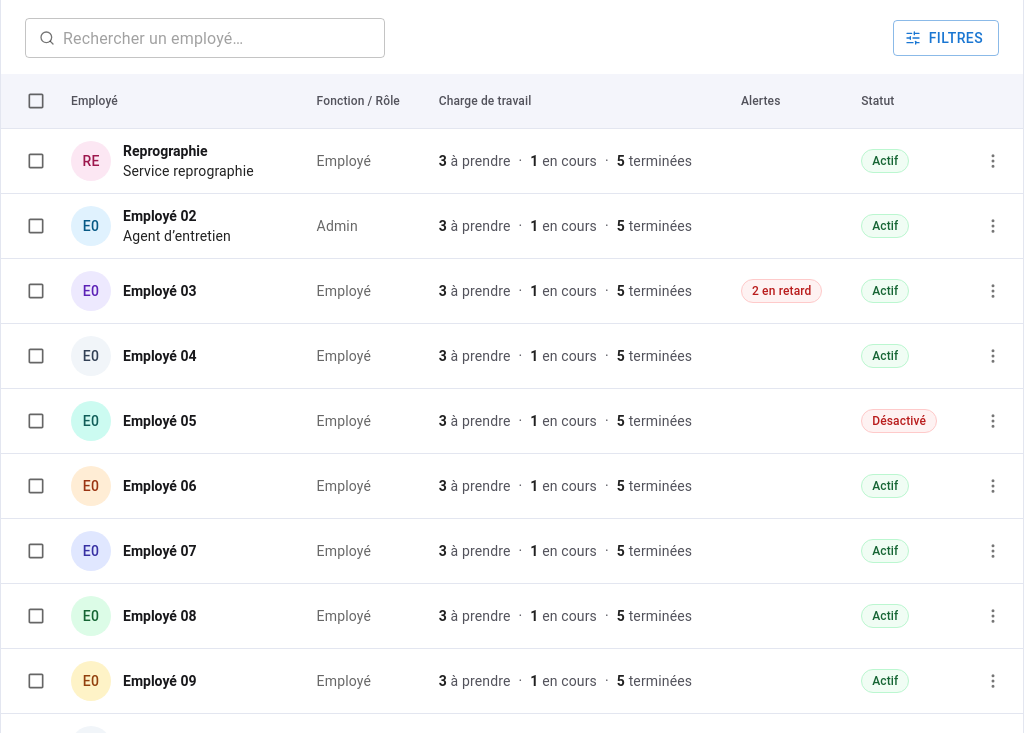
Test: Onglet « Employés » › menu « ⋮ » : voir le détail, modifier, changer la photo, désactiver
(page scrolled)
Step 1. Click the button named "Actions pour Employé 04" → click(993, 356), box x1=979 y1=342 x2=1007 y2=370
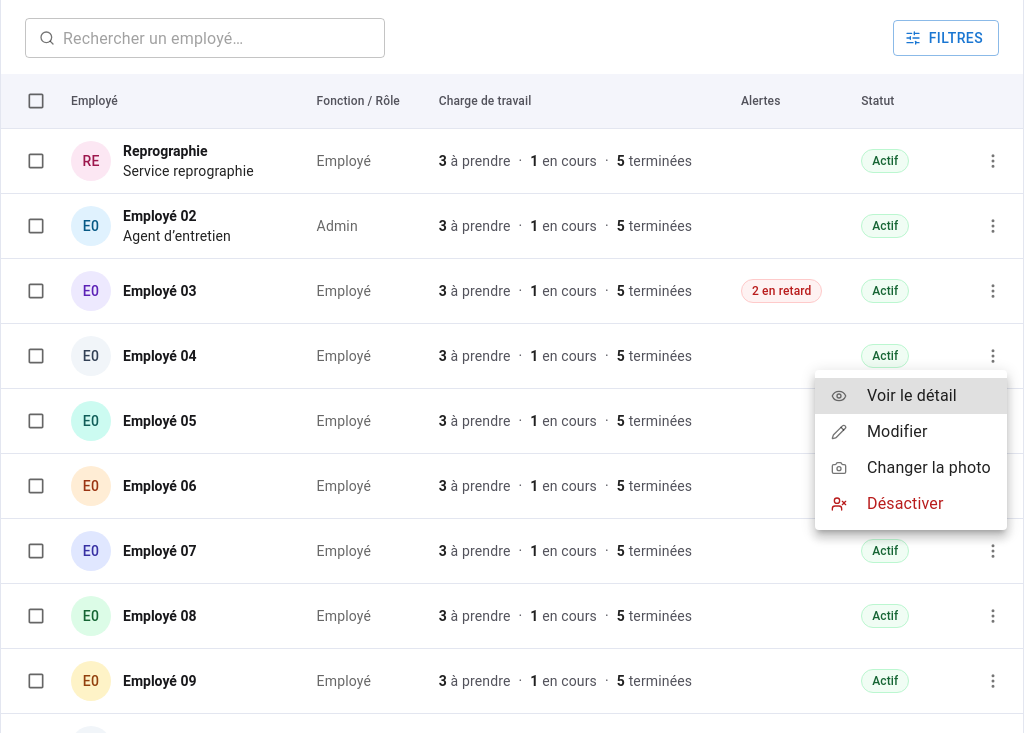
Result: the menu items read "Voir le détail", "Modifier", "Changer la photo", "Désactiver", in this order
Step 2. Click the menu item "Changer la photo" → click(911, 468), box x1=831 y1=458 x2=991 y2=477
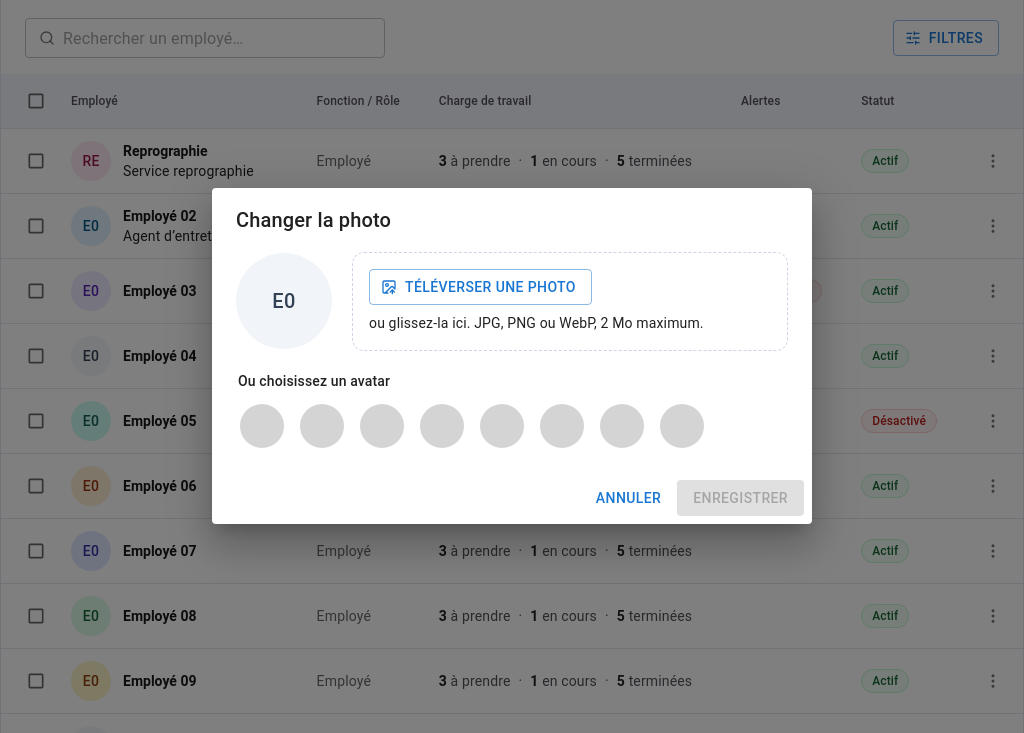
Result: the dialog "Changer la photo" is shown at x1=212 y1=188 x2=812 y2=524
